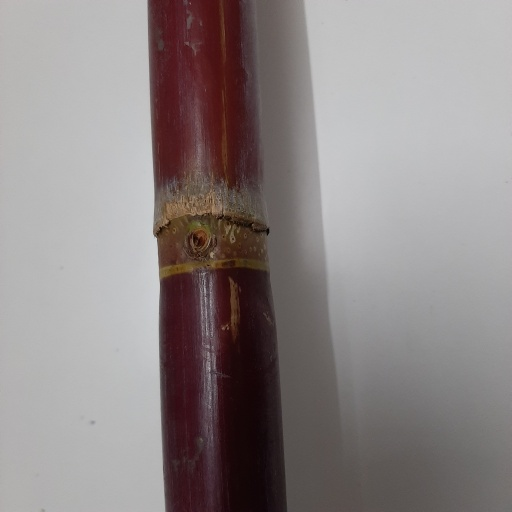Damage_Bud: (187, 228, 210, 259)
